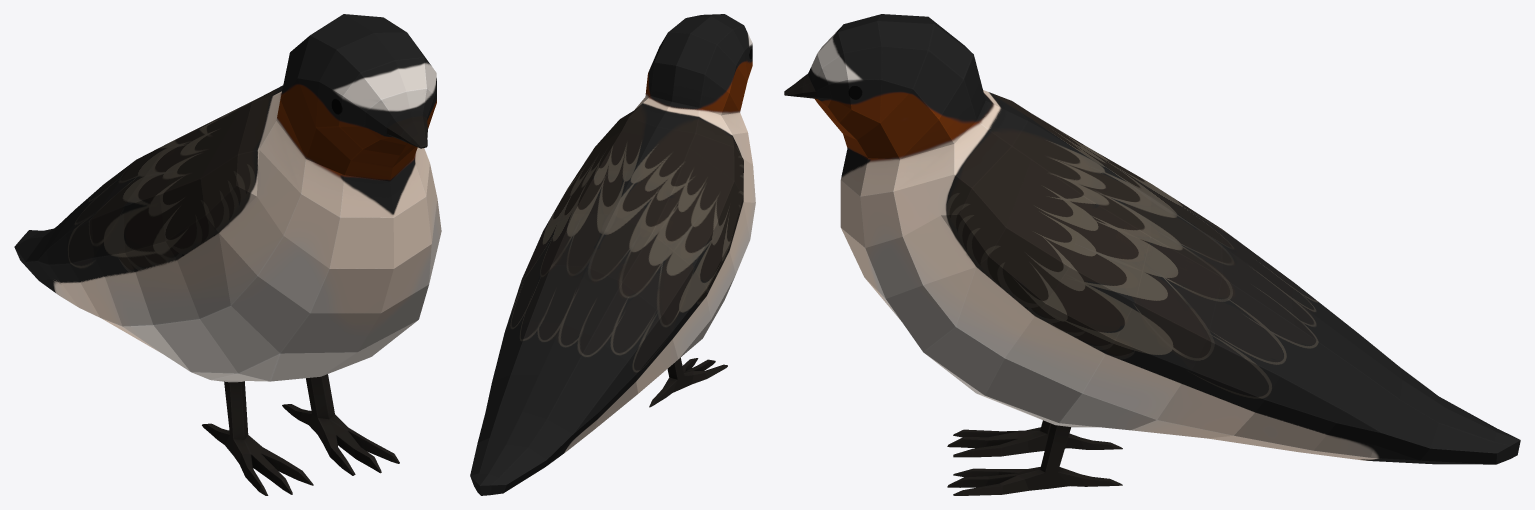
Rendered from Cliffswallow.glb.
The picture shows the model from 3 angles, left to right: view 1: azimuth 30°, elevation 25°; view 2: azimuth 150°, elevation 25°; view 3: azimuth 270°, elevation 25°; orthographic projection. The views are drawn at different scales.
Parts seen in each view (by area): view 1: CliffSwallow_Mesh; view 2: CliffSwallow_Mesh; view 3: CliffSwallow_Mesh.
Part boxes in pixels (left/top/right/bottom): CliffSwallow_Mesh: left=14, top=14, right=441, bottom=495; CliffSwallow_Mesh: left=470, top=14, right=755, bottom=495; CliffSwallow_Mesh: left=784, top=14, right=1520, bottom=495.
Size of the model in its own units: 0.7101 by 1.34 by 2.
1 material, 1 textured.
